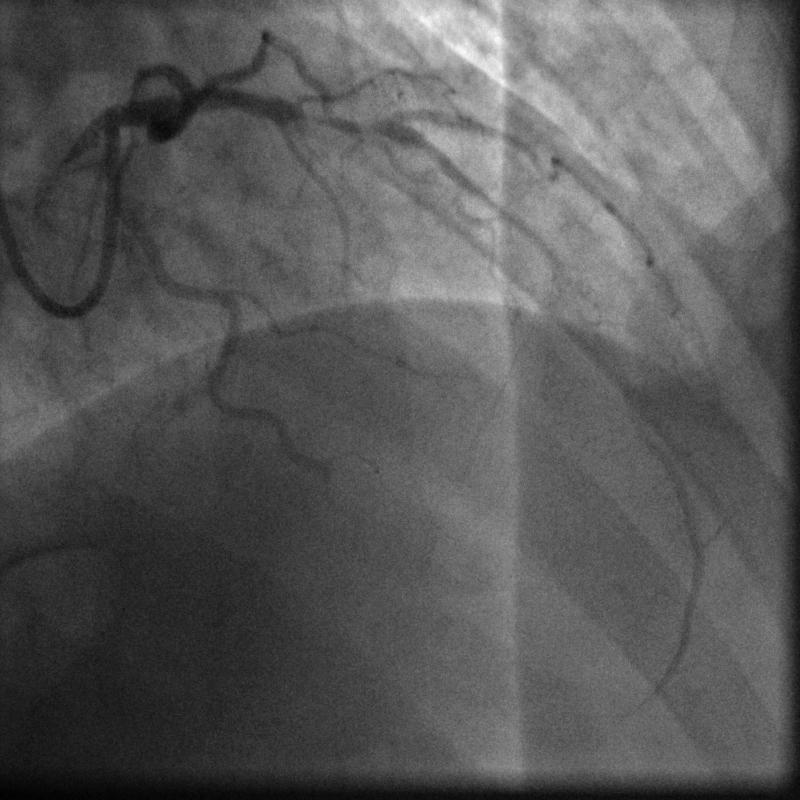Stenosis: (289, 105, 391, 136)
